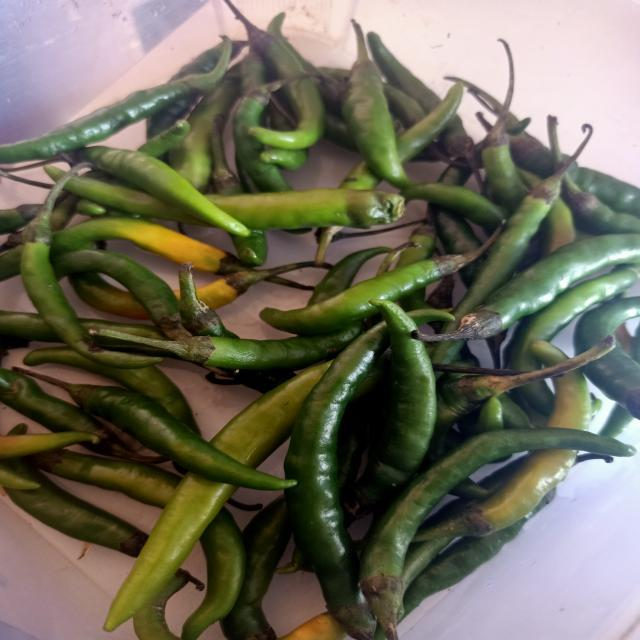Green Chilly: (284, 323, 388, 640), (21, 371, 295, 491), (0, 37, 231, 163), (19, 164, 159, 369), (440, 234, 640, 340), (103, 474, 236, 632), (259, 244, 488, 335), (82, 145, 249, 236), (210, 362, 331, 469), (50, 249, 188, 340), (342, 20, 414, 189)
